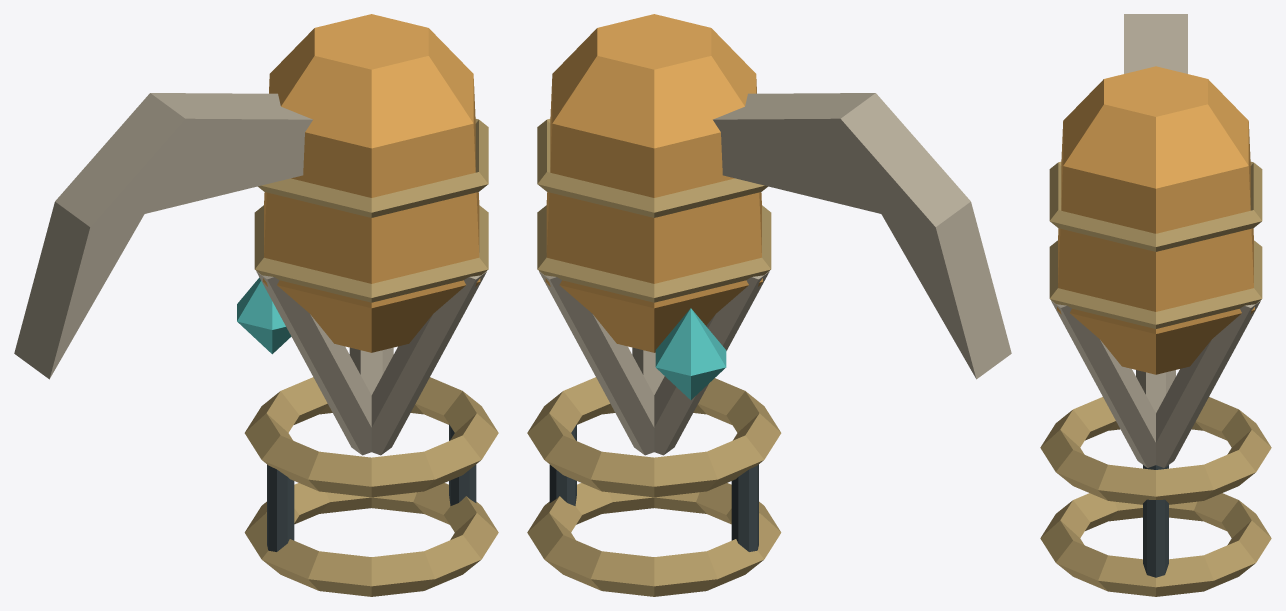
Rendered from Arsenal_NectarBeak.fbx.
3 renders of one model, left to right at view 1: azimuth 30°, elevation 25°; view 2: azimuth 150°, elevation 25°; view 3: azimuth 270°, elevation 25°, orthographic. The views are drawn at different scales.
Visible parts, largest first — view 1: Arsenal_NectarBeak; view 2: Arsenal_NectarBeak; view 3: Arsenal_NectarBeak.
Boxes of the visible parts, x1,y1,x2,y2 form: Arsenal_NectarBeak: [14, 14, 498, 596]; Arsenal_NectarBeak: [527, 14, 1011, 596]; Arsenal_NectarBeak: [1040, 14, 1271, 596].
Size of the model in its own units: 0.336 by 0.359 by 0.162.
